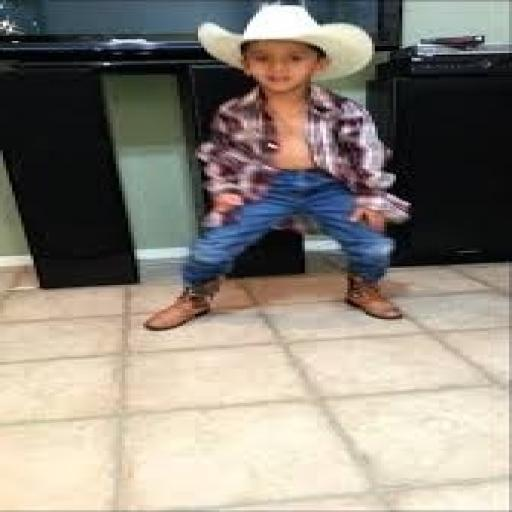dancing: (140, 3, 415, 333)
